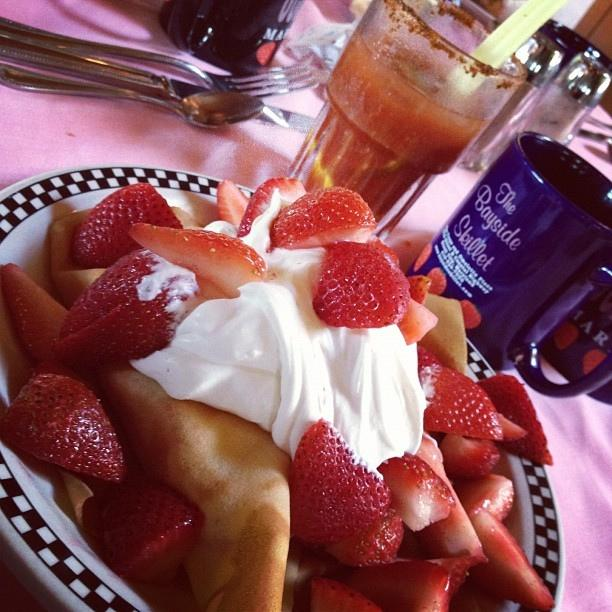strawberry: (0, 358, 125, 480), (290, 418, 400, 548), (103, 474, 204, 584), (127, 222, 268, 298), (52, 288, 174, 371), (413, 429, 487, 560), (72, 183, 184, 268), (56, 248, 156, 341), (466, 508, 554, 610), (311, 241, 411, 328), (266, 187, 378, 254), (476, 372, 554, 466), (0, 263, 68, 363), (418, 364, 504, 441), (376, 452, 456, 532), (342, 560, 452, 611), (320, 505, 404, 567), (236, 177, 306, 237), (449, 473, 514, 521), (440, 433, 500, 480), (312, 577, 384, 612), (396, 298, 438, 346), (216, 179, 250, 226), (500, 414, 528, 442), (406, 275, 432, 305), (554, 321, 578, 351), (582, 349, 608, 375), (460, 299, 482, 328), (426, 267, 448, 296), (417, 345, 444, 366), (256, 42, 277, 66), (414, 243, 431, 271)
